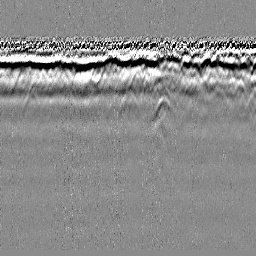cavity: (115, 88, 141, 114)
